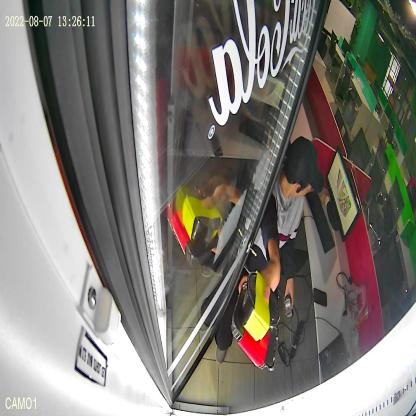red: (232, 283, 278, 371)
yellow: (242, 270, 280, 342)
